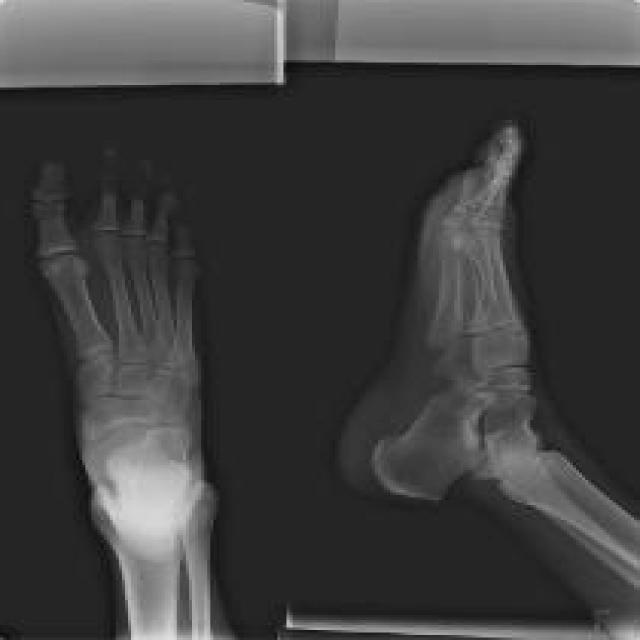normal: (372, 128, 638, 584), (34, 162, 209, 639)
